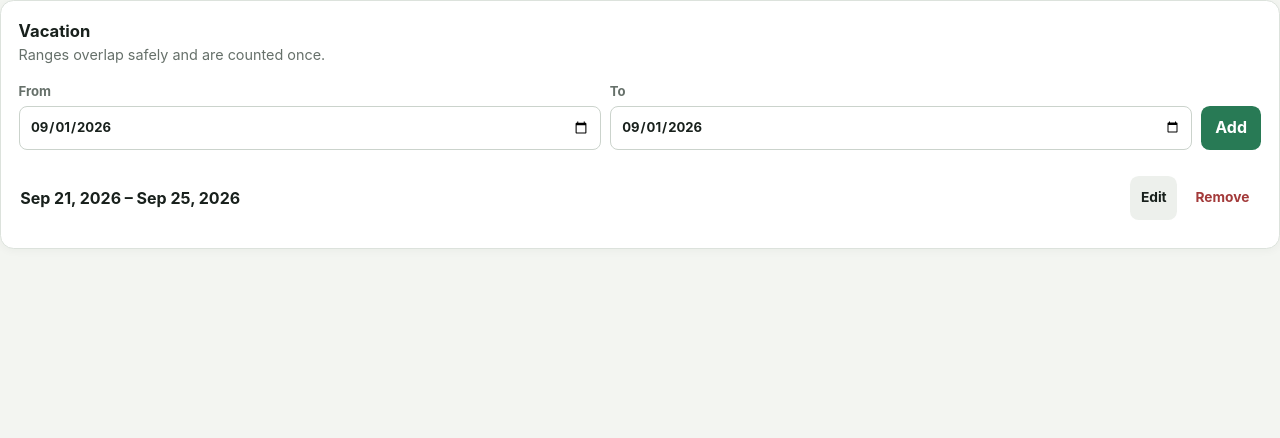
Test: retains entered dates and skips refresh when saving fails
This screenshot has width=1280, height=438.
Step 1. Click the button with aria-label "Edit vacation" → [1154, 198], box [1130, 176, 1177, 220]
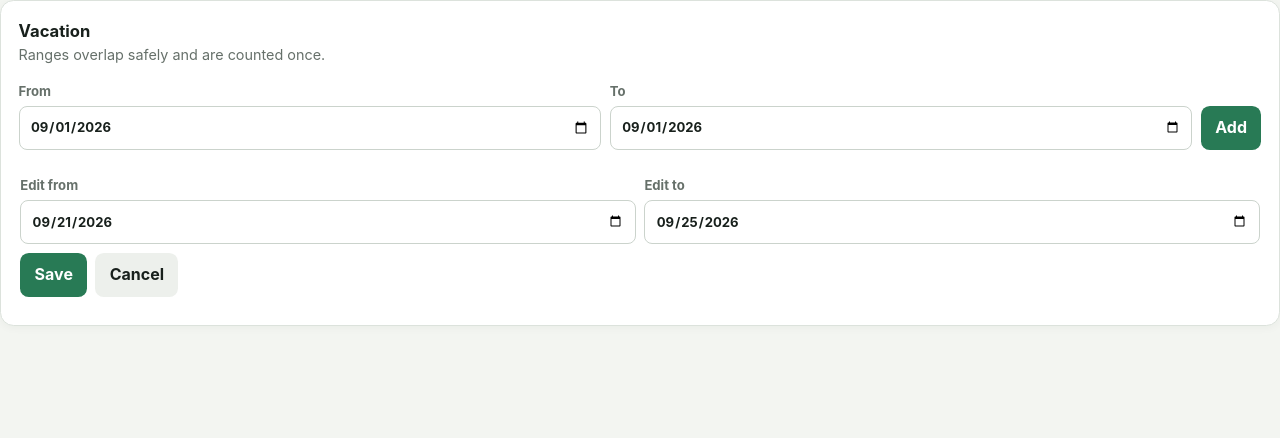
Step 2. Type "2026-09-28" into the date field labelled "Edit to" → [952, 222], box [644, 200, 1260, 244]
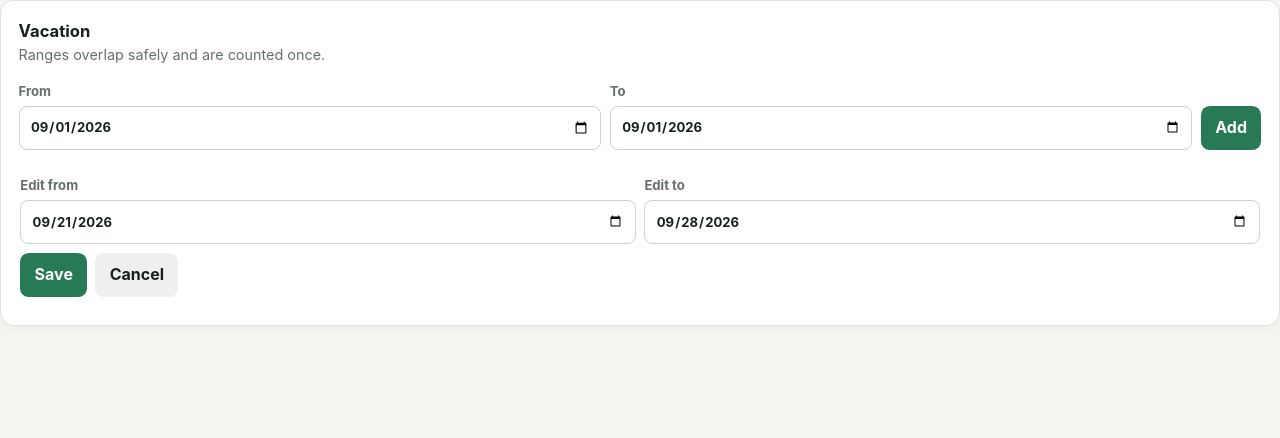
Step 3. Submit the form "Save", box [20, 176, 1260, 297]
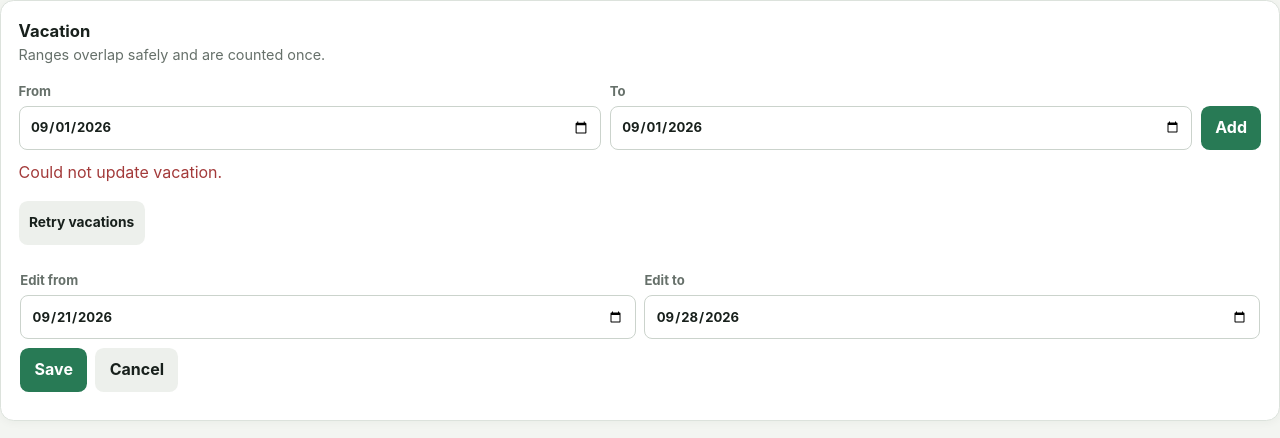
Result: the button "Save" is enabled at [20, 348, 87, 392]
Result: the message reads "Could not update vacation." at [19, 162, 222, 182]
